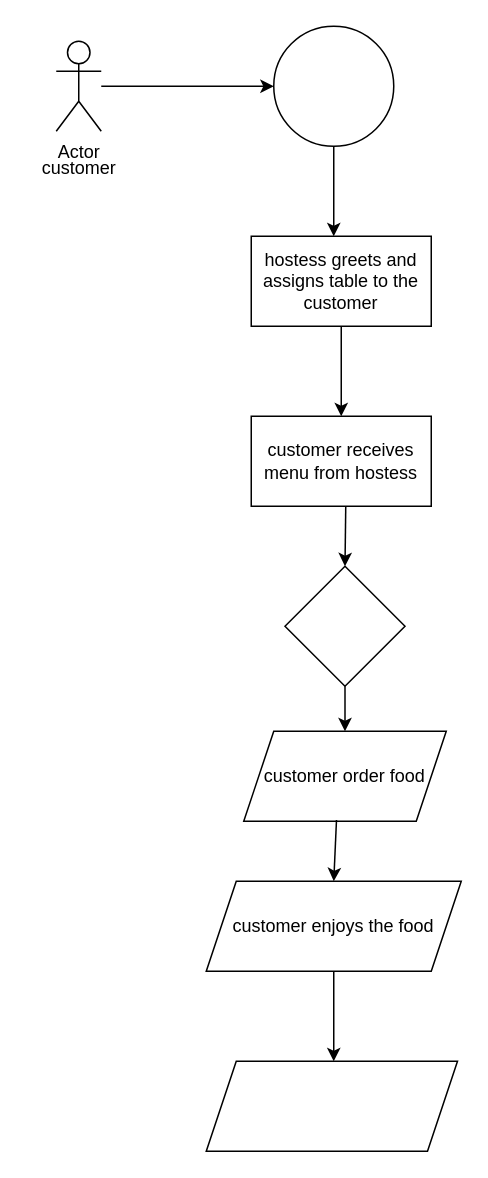
This 488x1178 diagram has some shape labels left out. The box of each missing label's shape, as (x1, y1, x2, y2) in pixels:
customer decides to order: (284, 565, 405, 686)
customer pays the bill: (205, 1060, 458, 1151)
start to the restaruarant: (272, 25, 394, 146)
